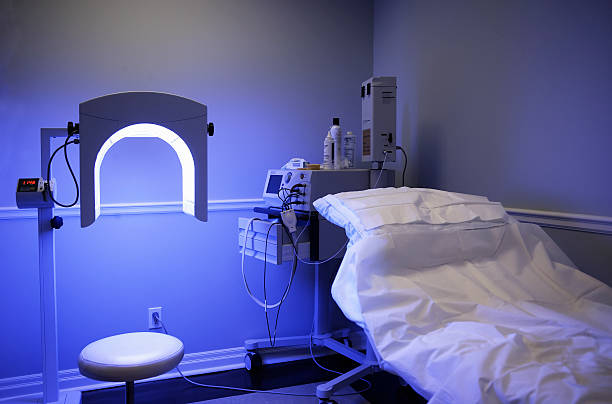bedside_monitor: (260, 168, 362, 202)
chair: (78, 332, 183, 404)
hospital_bed: (314, 186, 612, 404)
